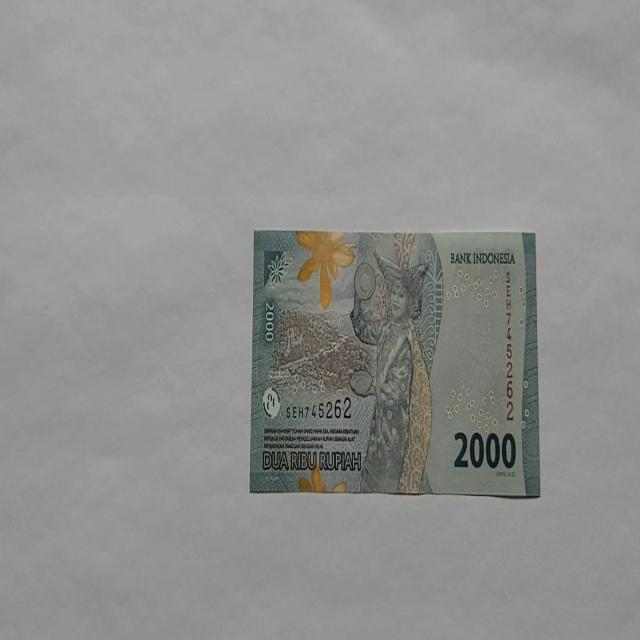dua ribu rupiah: (249, 227, 540, 497), (348, 250, 434, 493)
